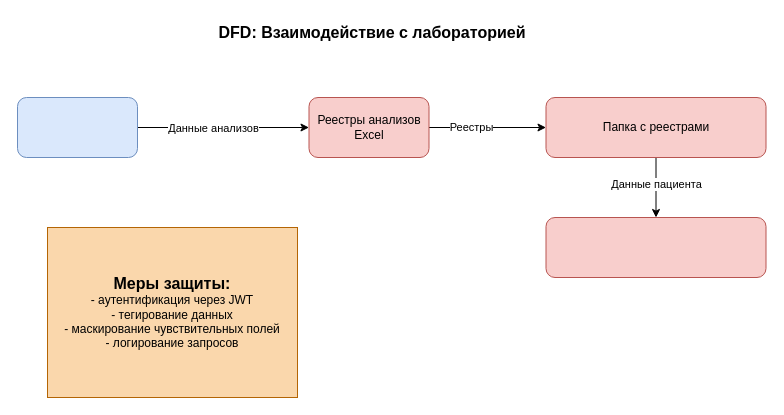
Image size: 784x415. Some labels were removed from this diagram. Each missing label, with the centre of its shape:
"Медицинская лаборатия" belongs at pixel 77 127.
"Хранилище данных пациентов" belongs at pixel 655 247.
